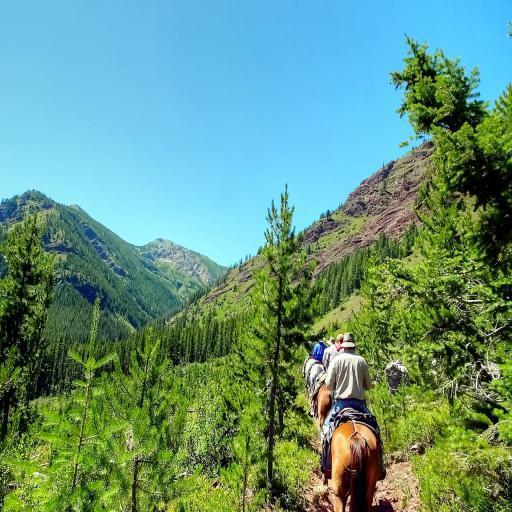horse: (330, 418, 378, 512), (315, 383, 333, 434), (308, 361, 325, 392), (302, 357, 318, 374)
